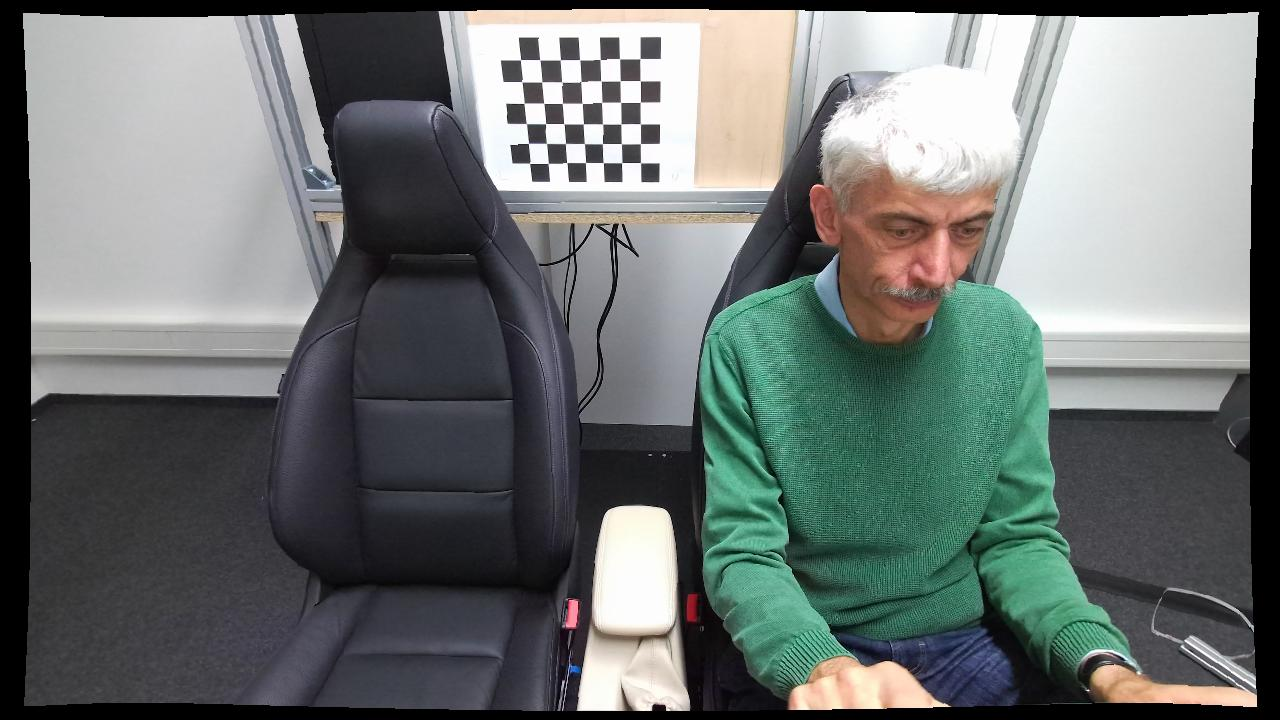SafeDriving: (698, 66, 1127, 714)
